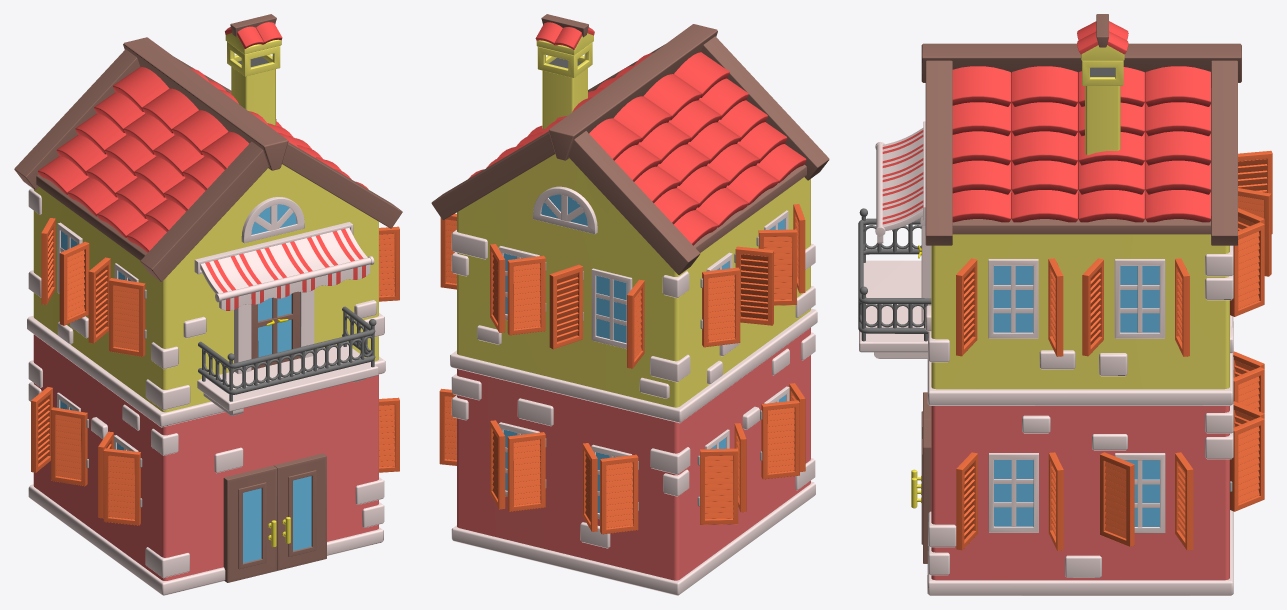
File: City_20_House_1.glb
3 renders of one model, left to right at view 1: azimuth 30°, elevation 25°; view 2: azimuth 150°, elevation 25°; view 3: azimuth 270°, elevation 25°, orthographic. The views are drawn at different scales.
Visible parts, largest first — view 1: City_20_House_1; view 2: City_20_House_1; view 3: City_20_House_1.
Boxes of the visible parts, <box> form: City_20_House_1: <box>14,14,402,595</box>; City_20_House_1: <box>431,14,829,595</box>; City_20_House_1: <box>858,14,1272,595</box>.
Size of the model in its own units: 6.87 by 11.13 by 7.71.
1 material, 1 textured.
